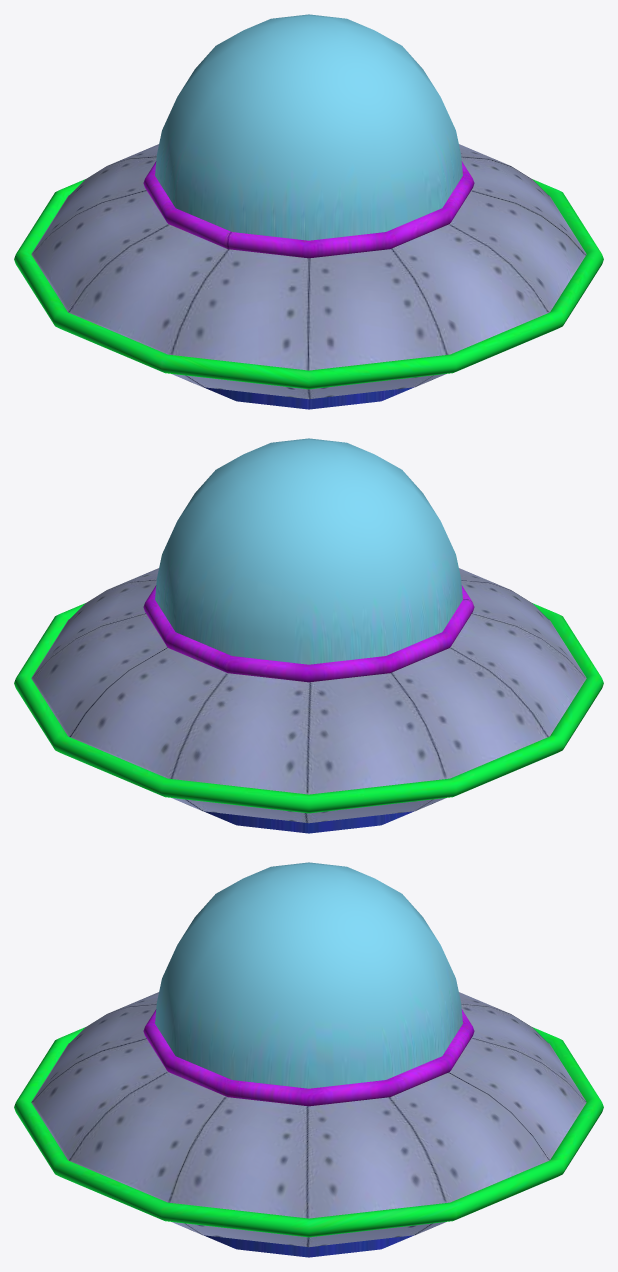
Rendered from Nave no quemada.obj.
The picture shows the model from 3 angles, top to bottom: view 1: azimuth 30°, elevation 25°; view 2: azimuth 150°, elevation 25°; view 3: azimuth 270°, elevation 25°; orthographic projection.
Parts seen in each view (by area): view 1: Capsule009; view 2: Capsule009; view 3: Capsule009.
Boxes of the visible parts, x1,y1,x2,y2 form: Capsule009: [14, 14, 603, 409]; Capsule009: [14, 438, 603, 833]; Capsule009: [14, 862, 603, 1257].
Bounding box in the file's own units: 37.2 × 22.6 × 37.2.
